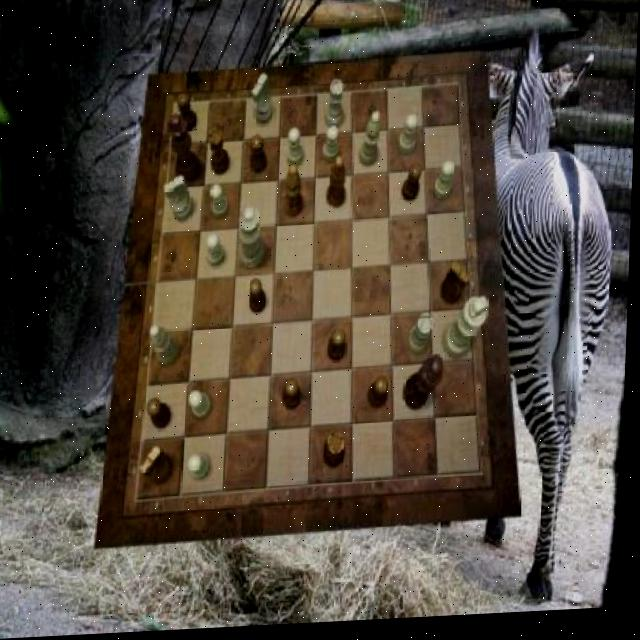bishop: (286, 166, 307, 221), (329, 159, 349, 213)
black-bishop: (406, 358, 448, 414)
black-king: (143, 446, 178, 488), (444, 265, 475, 309)
black-knight: (150, 400, 176, 432), (179, 95, 200, 134), (403, 169, 423, 205), (372, 380, 393, 414), (252, 137, 270, 176), (330, 333, 350, 366), (251, 281, 269, 316), (286, 383, 306, 414)
black-pawn: (168, 114, 206, 188)
black-queen: (208, 131, 232, 179), (326, 435, 349, 472)
black-rook: (152, 326, 183, 369), (361, 115, 382, 170)
white-bishop: (444, 303, 490, 364)
white-king: (164, 178, 196, 225), (251, 76, 275, 128)
white-knight: (435, 166, 456, 204), (400, 120, 418, 161), (210, 186, 231, 221), (207, 235, 227, 270), (289, 132, 307, 170), (192, 394, 216, 422), (324, 130, 342, 167), (190, 455, 214, 482)
white-pawn: (240, 207, 269, 271)
white-queen: (411, 319, 436, 360), (327, 83, 345, 133)
